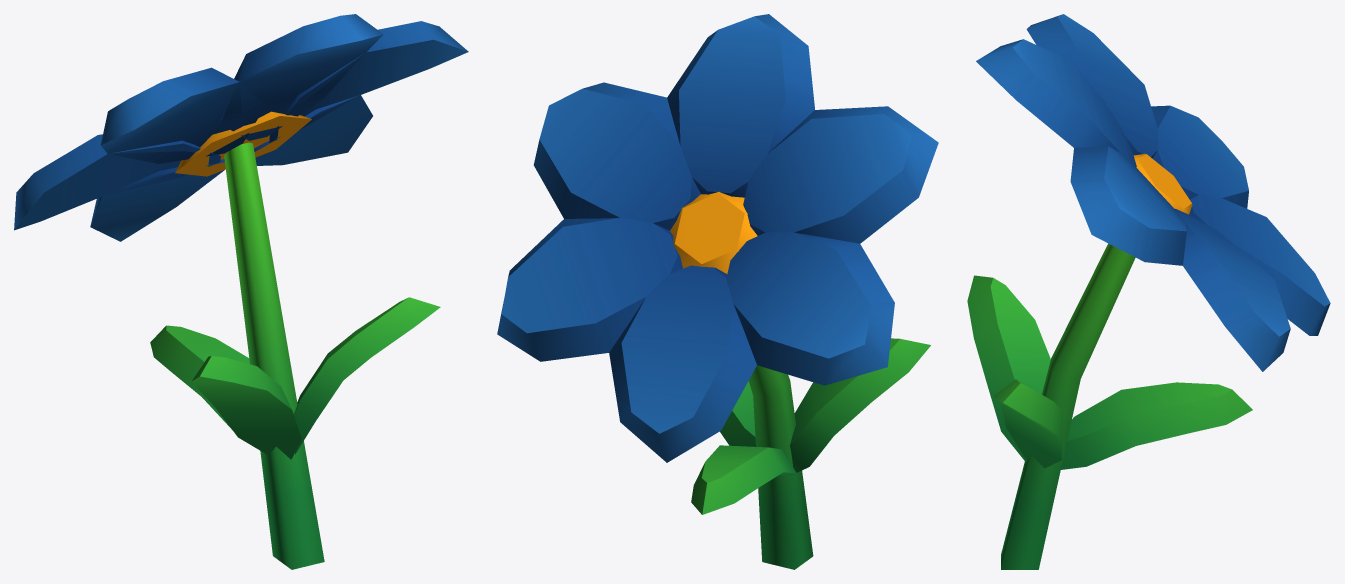
The model's file is Flowers_2_B.glb.
The picture shows the model from 3 angles, left to right: view 1: azimuth 30°, elevation 25°; view 2: azimuth 150°, elevation 25°; view 3: azimuth 270°, elevation 25°; orthographic projection.
Parts seen in each view (by area): view 1: Flowers_2_B; view 2: Flowers_2_B; view 3: Flowers_2_B.
Part boxes in pixels (box(x1,y1,x2,y2)): Flowers_2_B: box(14, 14, 468, 569); Flowers_2_B: box(497, 14, 938, 569); Flowers_2_B: box(967, 14, 1330, 569).
Size of the model in its own units: 0.3264 by 0.4195 by 0.2593.
Materials: 1 (1 with a texture image).
